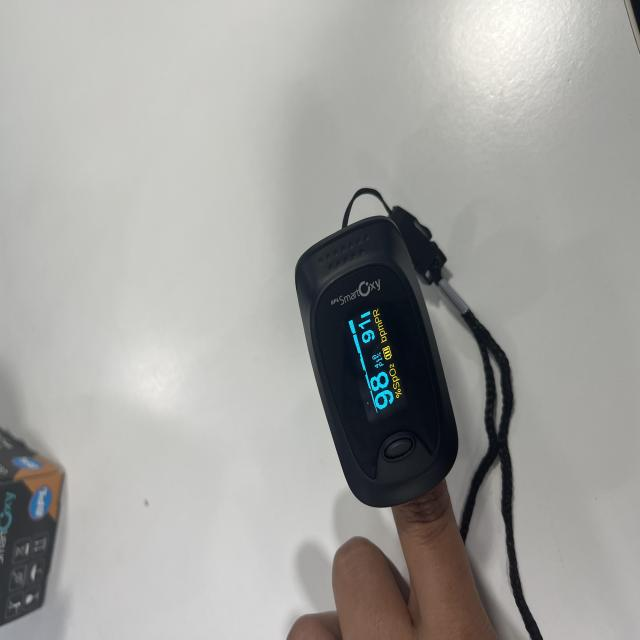spo2: (295, 211, 459, 512)
